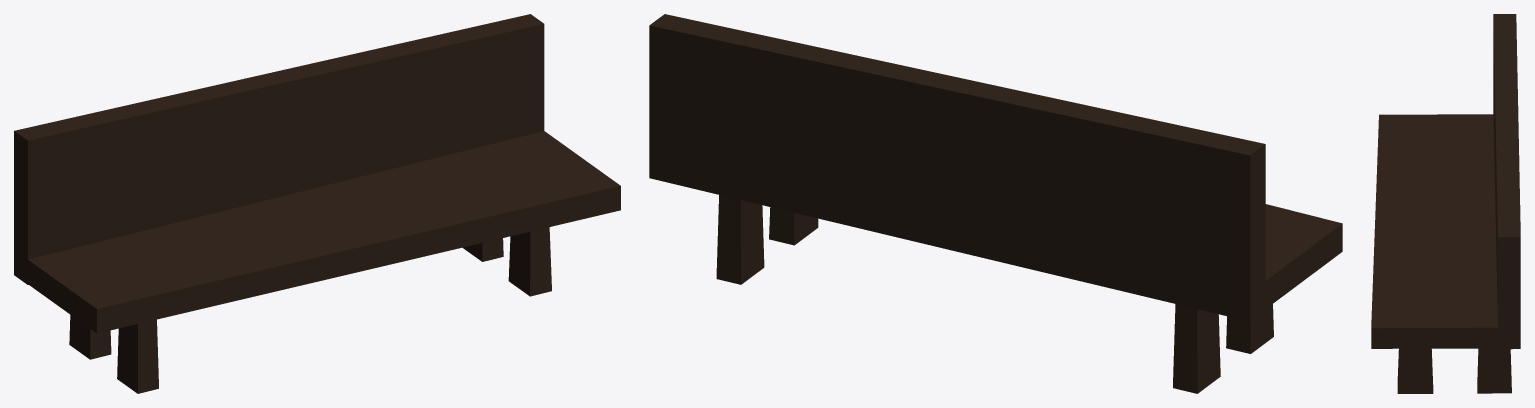
Rendered from bench.FBX.
3 views of the same model, side by side, from view 1: azimuth 30°, elevation 25°; view 2: azimuth 150°, elevation 25°; view 3: azimuth 270°, elevation 25° (orthographic). The views are drawn at different scales.
Parts seen in each view (by area): view 1: bench; view 2: bench; view 3: bench.
Boxes of the visible parts, <box> form: bench: <box>14,14,620,393</box>; bench: <box>649,14,1342,393</box>; bench: <box>1371,14,1520,393</box>.
Size of the model in its own units: 90.93 by 37.21 by 26.87.
